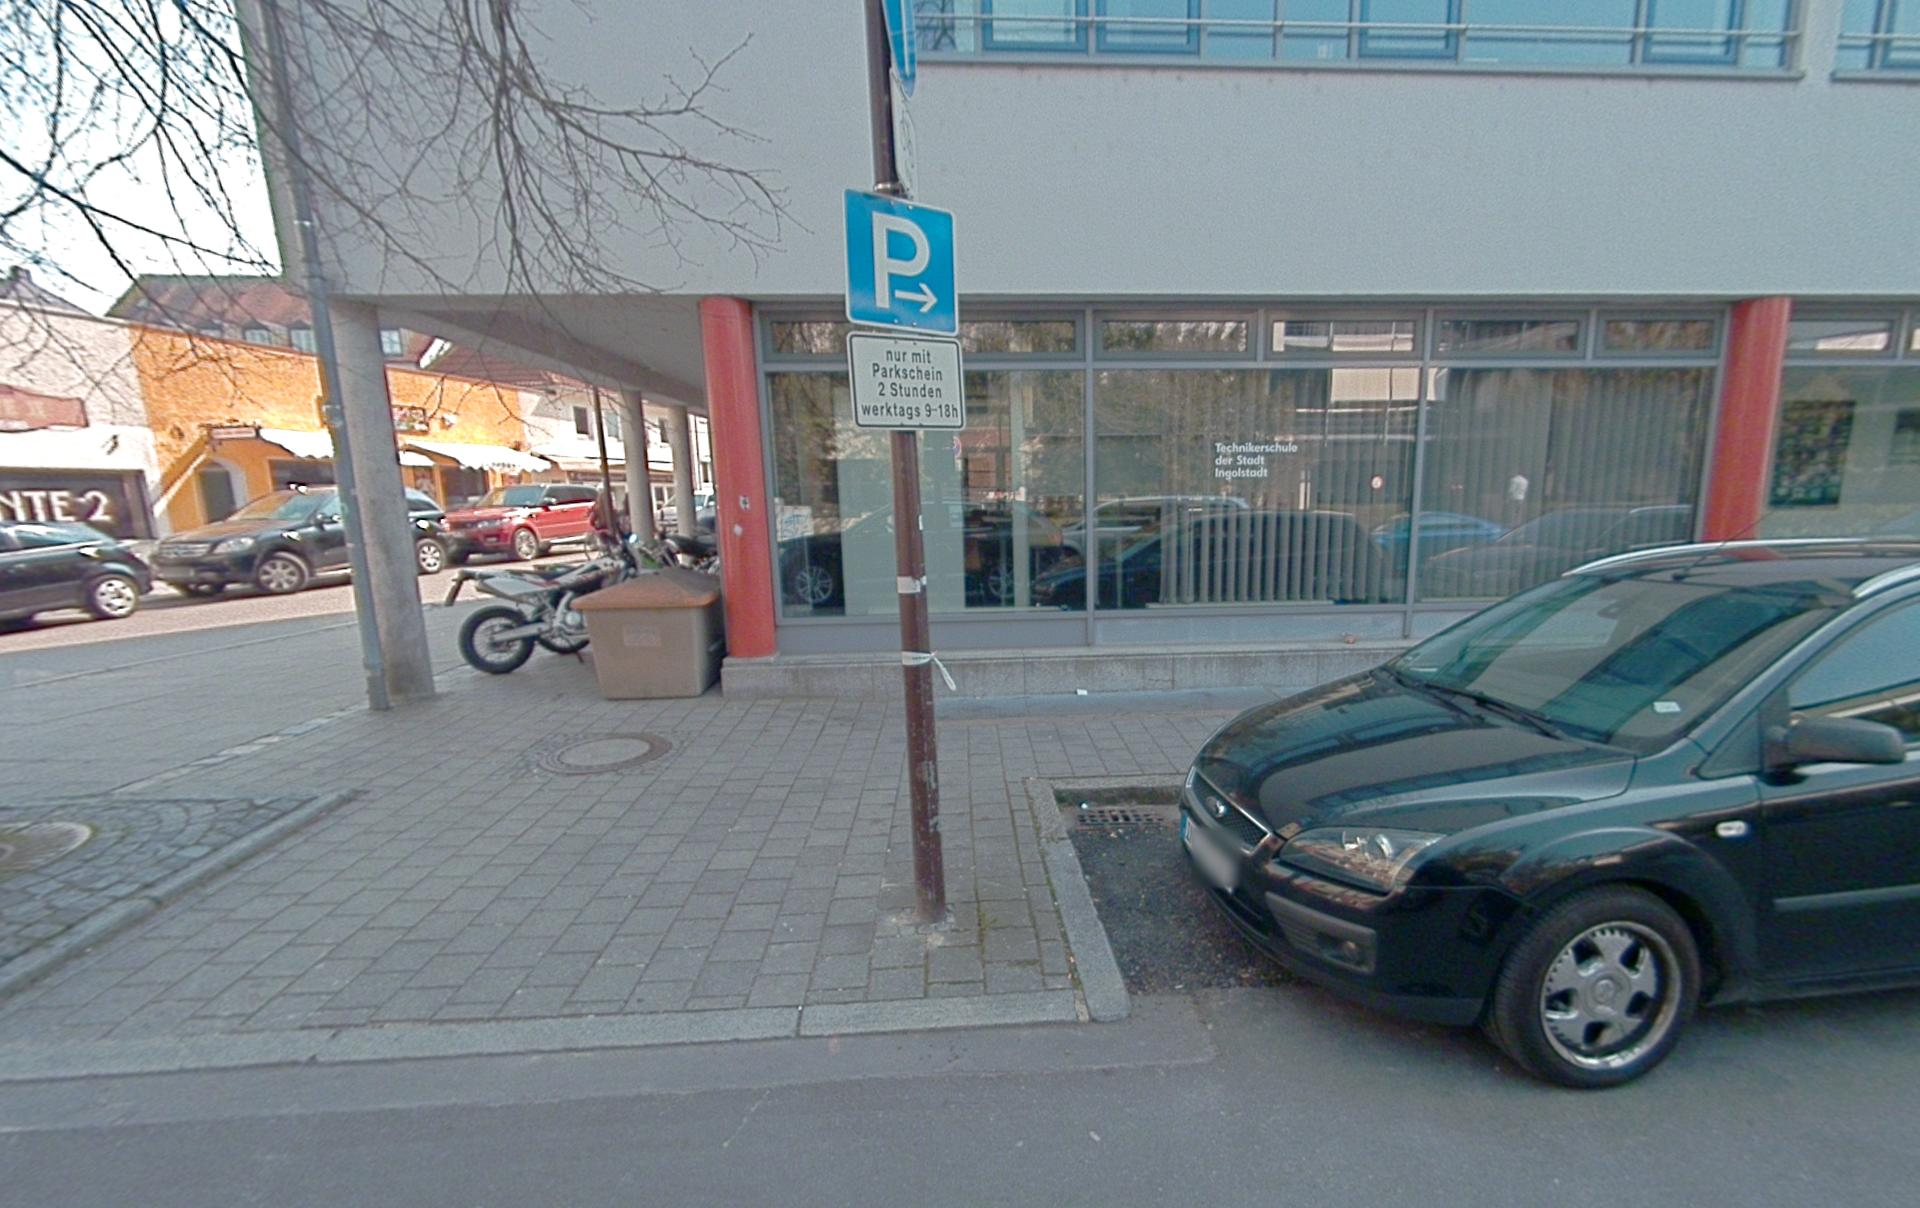car: (1178, 534, 1920, 1090), (1031, 508, 1387, 610), (152, 483, 449, 597), (778, 500, 1069, 608), (1414, 502, 1695, 601), (0, 519, 153, 632), (440, 482, 604, 562), (1059, 494, 1249, 559), (1370, 511, 1507, 569)
traffic sign: (843, 188, 960, 335), (846, 331, 966, 430)
